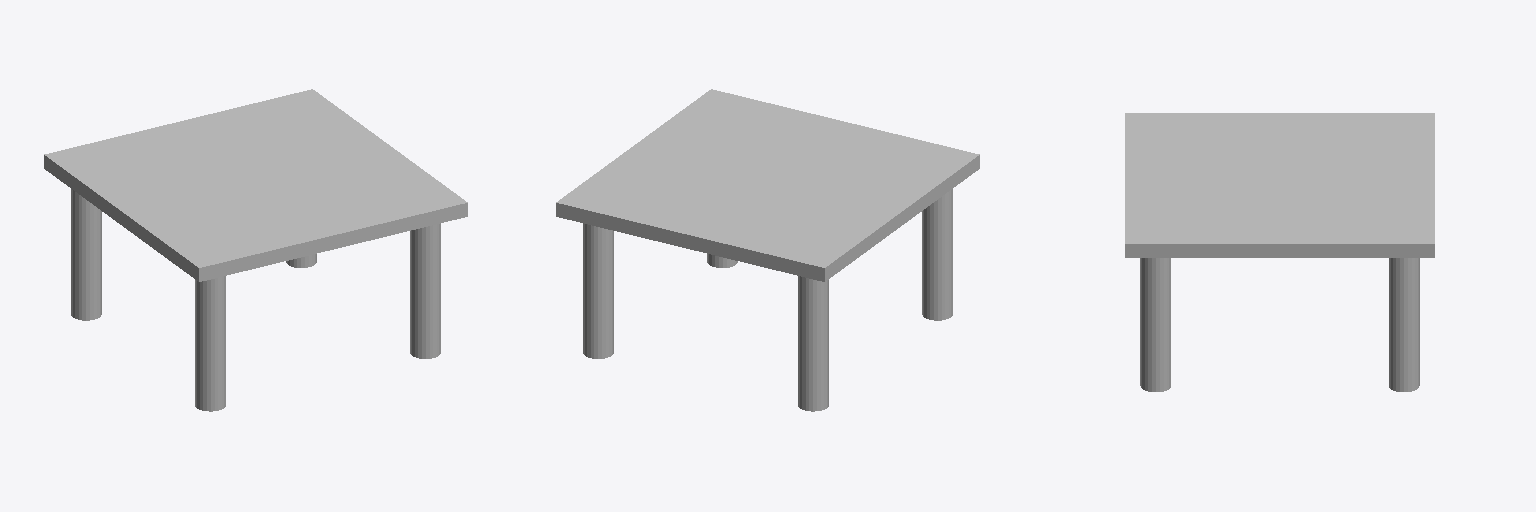
Rendered from table.obj.
The picture shows the model from 3 angles: view 1: azimuth 30°, elevation 25°; view 2: azimuth 150°, elevation 25°; view 3: azimuth 270°, elevation 25°; orthographic projection.
Bounding box in the file's own units: 2 × 1.1 × 2.